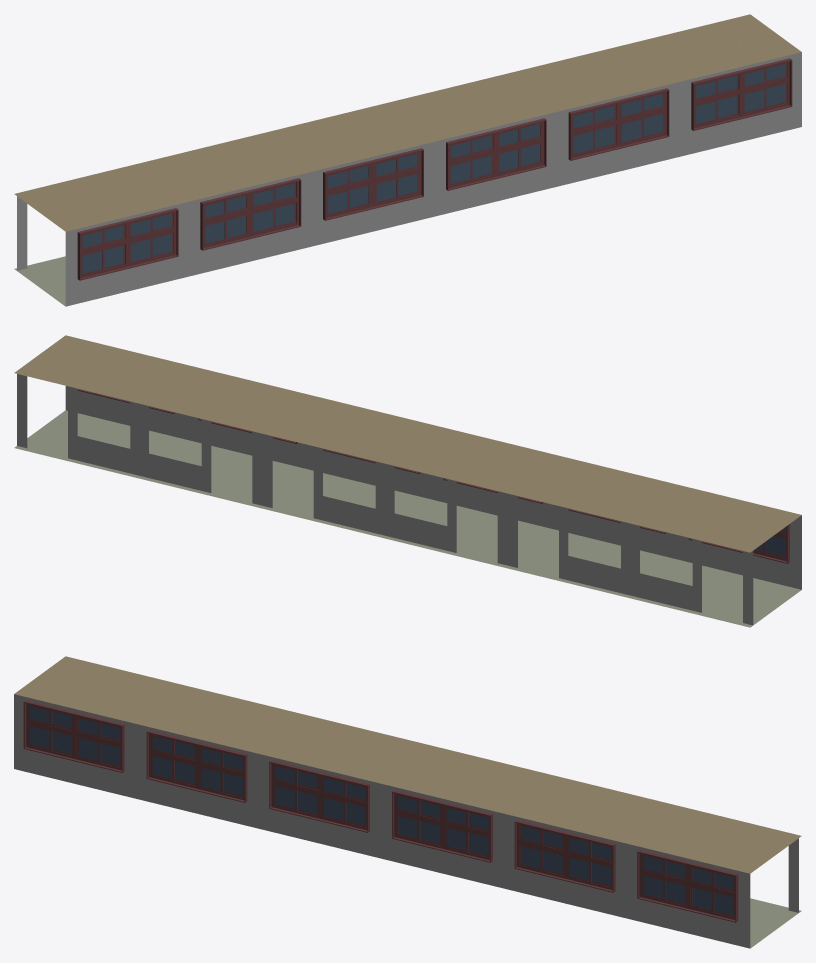
The model's file is corridor.FBX.
3 views of the same model, one above another, from view 1: azimuth 30°, elevation 25°; view 2: azimuth 150°, elevation 25°; view 3: azimuth 330°, elevation 25° (orthographic).
Parts seen in each view (by area): view 1: corridorCeiling, corridor_rWall001, corridor_rWall002, corridor_rWall, windowFrame013, windowFrame016, windowFrame015, windowFrame014, windowFrame011, windowFrame012, corridorfloor, corridorlWall004; view 2: corridorCeiling, corridorfloor, corridorlWall005, corridorlWall006, corridorlWall004, corridor_rWall002, corridor_rWall, corridor_rWall001, windowFrame016; view 3: corridorCeiling, corridor_rWall001, corridor_rWall002, corridor_rWall, windowFrame016, windowFrame013, windowFrame014, windowFrame015, windowFrame011, windowFrame012, corridorfloor, corridorlWall005.
Boxes of the visible parts, <box> form: corridorCeiling: <box>14,14,801,231</box>; corridor_rWall001: <box>556,52,801,186</box>; corridor_rWall002: <box>65,172,310,306</box>; corridor_rWall: <box>311,112,556,246</box>; windowFrame013: <box>691,58,792,130</box>; windowFrame016: <box>77,208,178,280</box>; windowFrame015: <box>200,178,301,250</box>; windowFrame014: <box>568,88,669,160</box>; windowFrame011: <box>323,148,423,220</box>; windowFrame012: <box>446,118,546,190</box>; corridorfloor: <box>14,256,65,306</box>; corridorlWall004: <box>17,196,27,270</box>; corridorCeiling: <box>14,335,801,552</box>; corridorfloor: <box>14,410,801,627</box>; corridorlWall005: <box>17,374,262,505</box>; corridorlWall006: <box>262,433,507,565</box>; corridorlWall004: <box>508,493,753,625</box>; corridor_rWall002: <box>556,505,801,589</box>; corridor_rWall: <box>311,445,556,529</box>; corridor_rWall001: <box>65,386,310,469</box>; windowFrame016: <box>689,524,789,563</box>; corridorCeiling: <box>14,656,801,873</box>; corridor_rWall001: <box>505,814,750,948</box>; corridor_rWall002: <box>14,694,259,828</box>; corridor_rWall: <box>259,754,504,888</box>; windowFrame016: <box>23,700,124,772</box>; windowFrame013: <box>637,850,738,922</box>; windowFrame014: <box>514,820,615,892</box>; windowFrame015: <box>146,730,247,802</box>; windowFrame011: <box>269,760,369,832</box>; windowFrame012: <box>392,790,492,862</box>; corridorfloor: <box>750,898,801,948</box>; corridorlWall005: <box>788,838,798,912</box>.
Bounding box in the file's own units: 1134 × 110 × 144.
